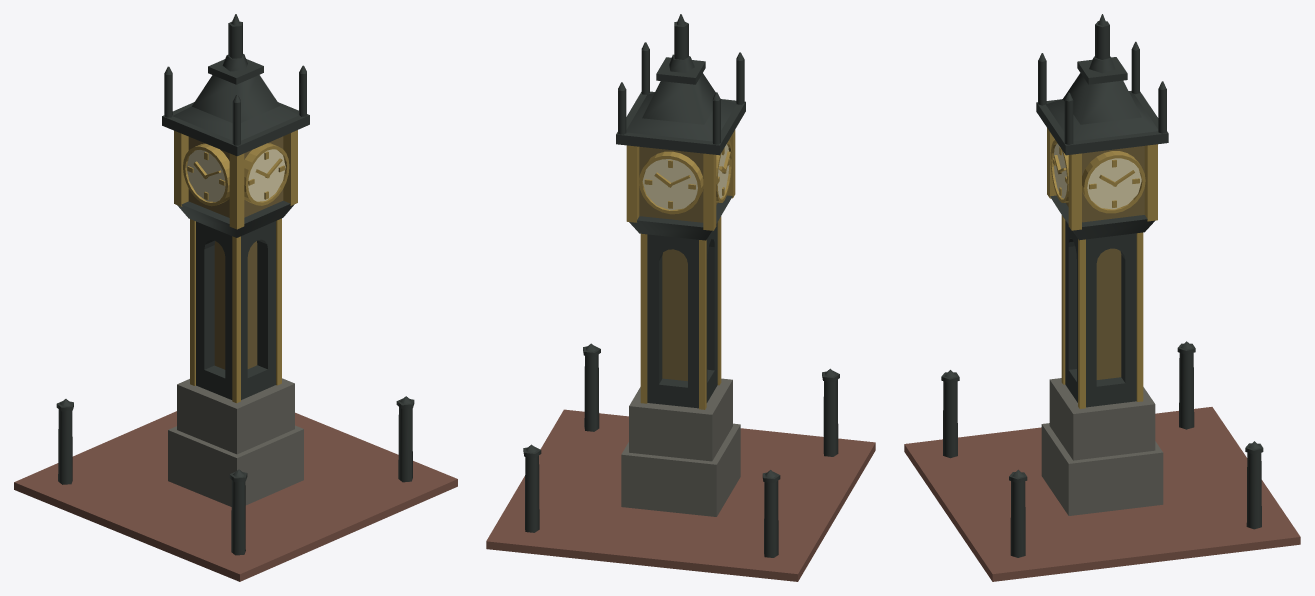
Rendered from gastown-steam-clock-far.glb.
The picture shows the model from 3 angles, left to right: view 1: azimuth 30°, elevation 25°; view 2: azimuth 150°, elevation 25°; view 3: azimuth 270°, elevation 25°; orthographic projection. The views are drawn at different scales.
Visible parts, largest first — view 1: gastown-steam-clock-0-brick, gastown-steam-clock-0-bronze, gastown-steam-clock-0-granite, gastown-steam-clock-0-brass, gastown-steam-clock-0-glass, gastown-steam-clock-0-glow; view 2: gastown-steam-clock-0-brick, gastown-steam-clock-0-bronze, gastown-steam-clock-0-granite, gastown-steam-clock-0-brass, gastown-steam-clock-0-glass, gastown-steam-clock-0-glow; view 3: gastown-steam-clock-0-brick, gastown-steam-clock-0-bronze, gastown-steam-clock-0-granite, gastown-steam-clock-0-brass, gastown-steam-clock-0-glass, gastown-steam-clock-0-glow.
Part boxes in pixels (x1=…): gastown-steam-clock-0-brick: x1=14, y1=411, x2=457, y2=581; gastown-steam-clock-0-bronze: x1=56, y1=14, x2=414, y2=555; gastown-steam-clock-0-granite: x1=168, y1=378, x2=303, y2=506; gastown-steam-clock-0-brass: x1=174, y1=130, x2=297, y2=403; gastown-steam-clock-0-glass: x1=188, y1=136, x2=283, y2=369; gastown-steam-clock-0-glow: x1=186, y1=149, x2=285, y2=201; gastown-steam-clock-0-brick: x1=486, y1=409, x2=875, y2=581; gastown-steam-clock-0-bronze: x1=523, y1=14, x2=839, y2=557; gastown-steam-clock-0-granite: x1=621, y1=378, x2=740, y2=516; gastown-steam-clock-0-brass: x1=626, y1=130, x2=735, y2=409; gastown-steam-clock-0-glass: x1=639, y1=146, x2=717, y2=381; gastown-steam-clock-0-glow: x1=642, y1=144, x2=729, y2=210; gastown-steam-clock-0-brick: x1=904, y1=407, x2=1300, y2=581; gastown-steam-clock-0-bronze: x1=941, y1=14, x2=1263, y2=557; gastown-steam-clock-0-granite: x1=1041, y1=378, x2=1163, y2=515; gastown-steam-clock-0-brass: x1=1047, y1=128, x2=1157, y2=408; gastown-steam-clock-0-glass: x1=1066, y1=146, x2=1144, y2=379; gastown-steam-clock-0-glow: x1=1053, y1=143, x2=1141, y2=209.
Bounding box in the file's own units: 3.71 × 5 × 3.71.
